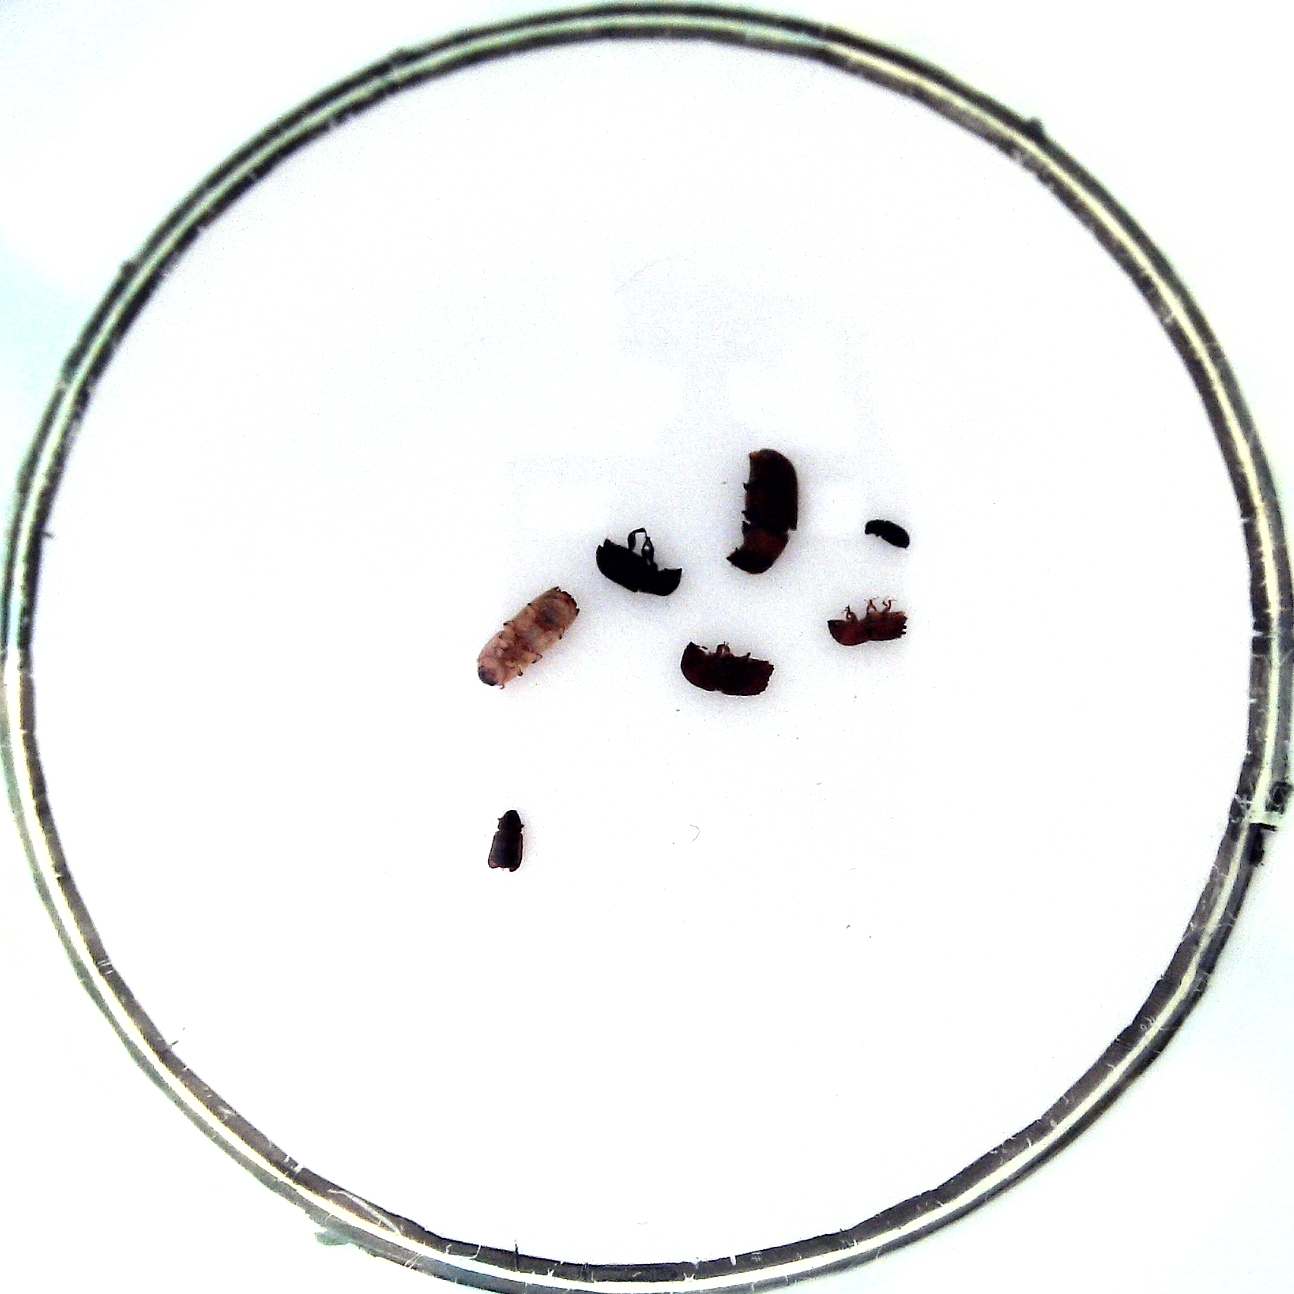Boerner: (478, 587, 581, 685)
Leconte: (725, 448, 797, 574)
acuminatus: (865, 519, 910, 549)
armandi: (596, 538, 683, 596)
coleoptera: (828, 610, 908, 646), (487, 809, 523, 871)
linnaeus: (680, 642, 775, 697)
